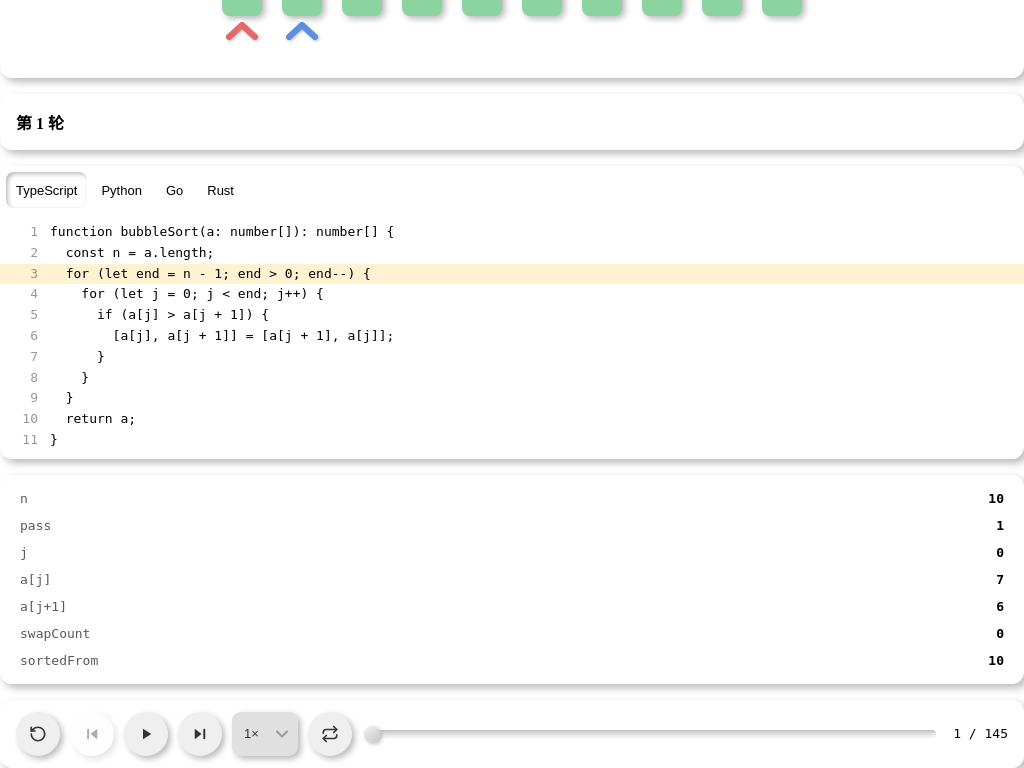
Test case: AlgorithmPlayer › 默认停在第 0 步，点下一步推进到第 2 步
(page scrolled)
Expected: the text with class "counter" shows "1 /", [953,726,1008,741]
Click the button titled "下一步" at (200, 734), box [178,712,222,756]
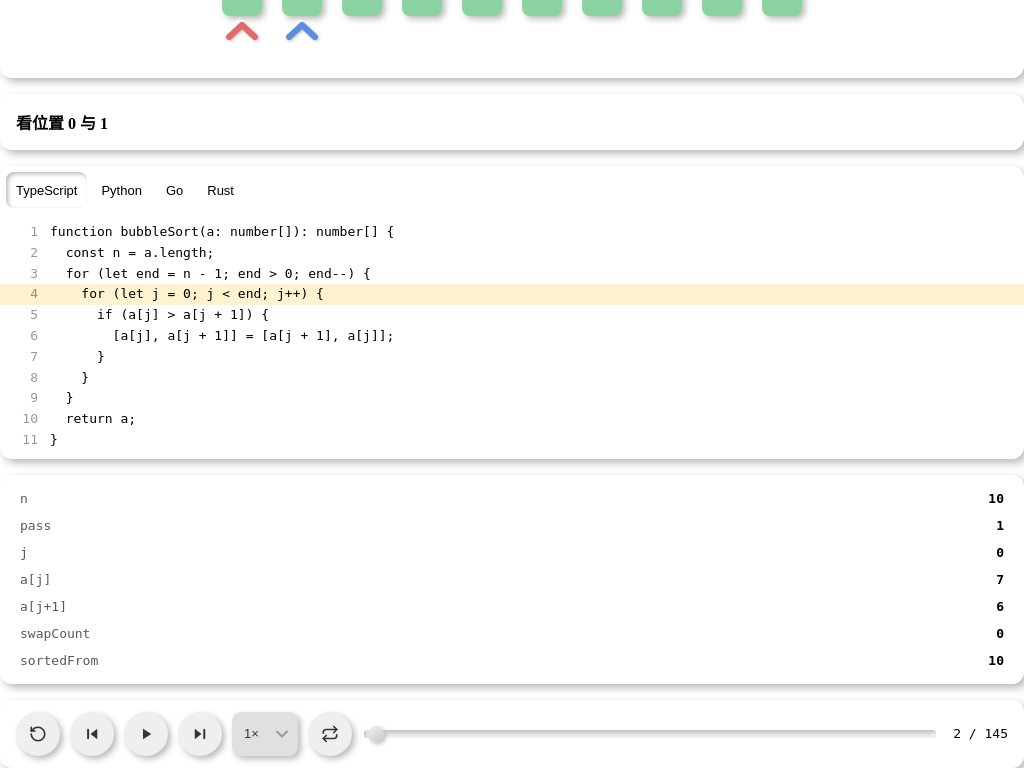
Expected: the text with class "counter" shows "2 /", [953,726,1008,741]
